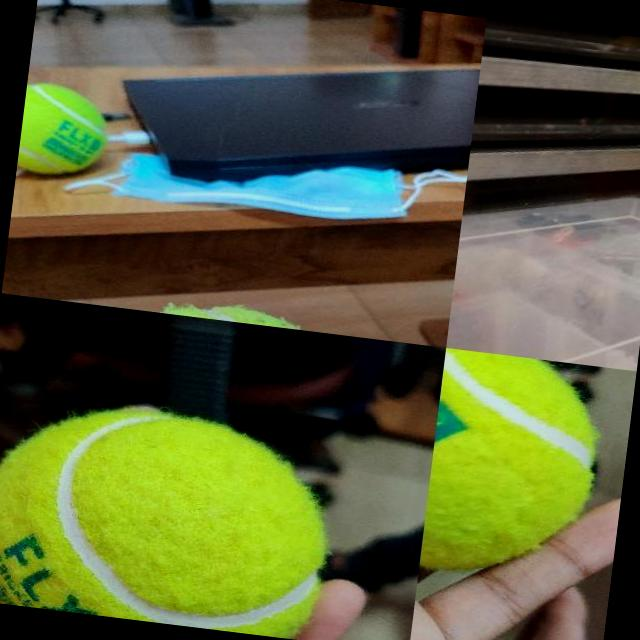Tennis Ball: (0, 392, 339, 640), (418, 348, 604, 586), (16, 80, 111, 180)
